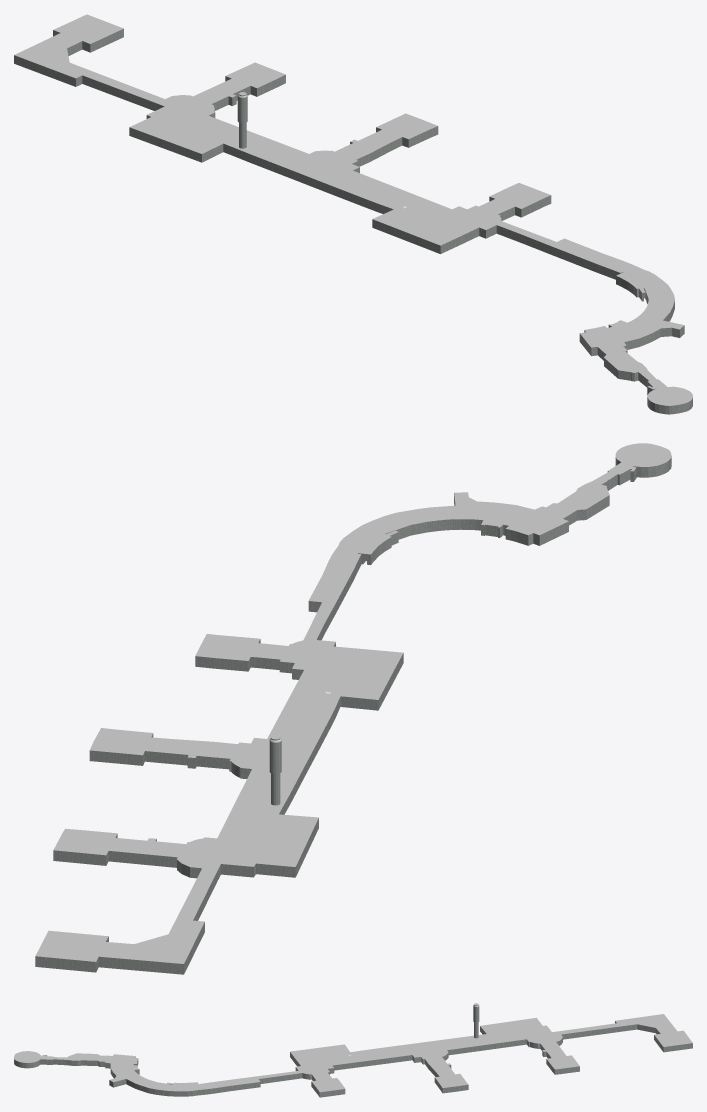
File: KDCA.gltf
3 renders of one model, top to bottom at view 1: azimuth 30°, elevation 25°; view 2: azimuth 150°, elevation 25°; view 3: azimuth 270°, elevation 25°, orthographic. The views are drawn at different scales.
Visible parts, largest first — view 1: Building Terminal 2.001, Building Terminal 2, Building Terminal 1; view 2: Building Terminal 2.001, Building Terminal 2, Building Terminal 1; view 3: Building Terminal 2.001, Building Terminal 2, Building Terminal 1.
Boxes of the visible parts, left/top/right/bottom form: Building Terminal 2.001: left=14, top=14, right=438, bottom=211; Building Terminal 2: left=372, top=183, right=637, bottom=271; Building Terminal 1: left=579, top=259, right=692, bottom=414; Building Terminal 2.001: left=35, top=702, right=335, bottom=974; Building Terminal 2: left=195, top=550, right=403, bottom=717; Building Terminal 1: left=335, top=443, right=671, bottom=581; Building Terminal 2.001: left=363, top=1003, right=692, bottom=1093; Building Terminal 2: left=201, top=1044, right=370, bottom=1097; Building Terminal 1: left=14, top=1051, right=221, bottom=1096.
Bounding box in the file's own units: 35.52 × 8.1 × 130.
